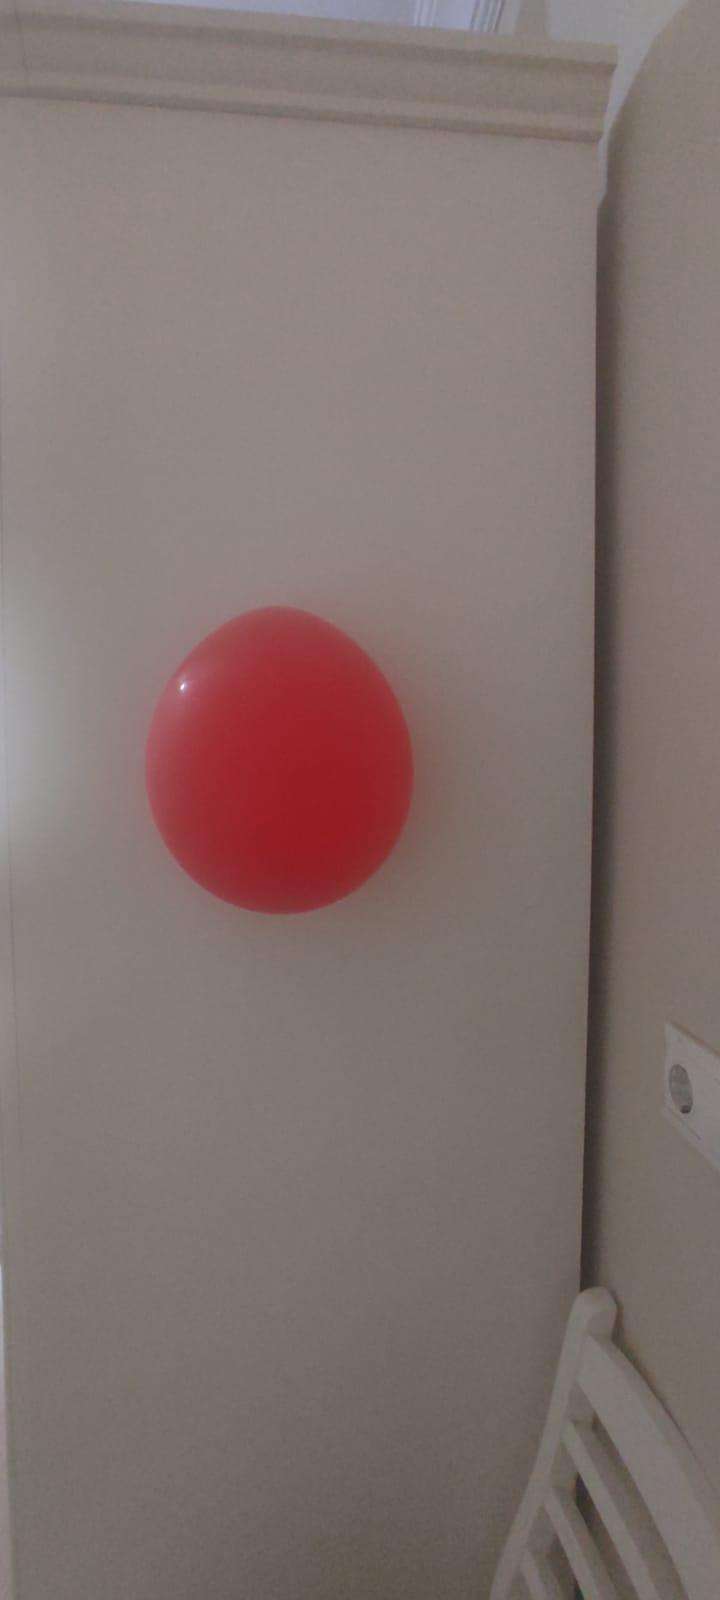red: (146, 601, 416, 915)
